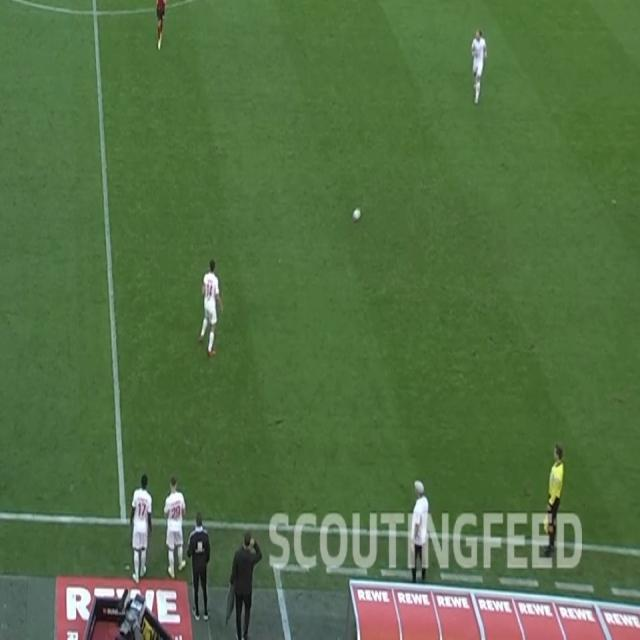ball: (353, 207, 362, 223)
